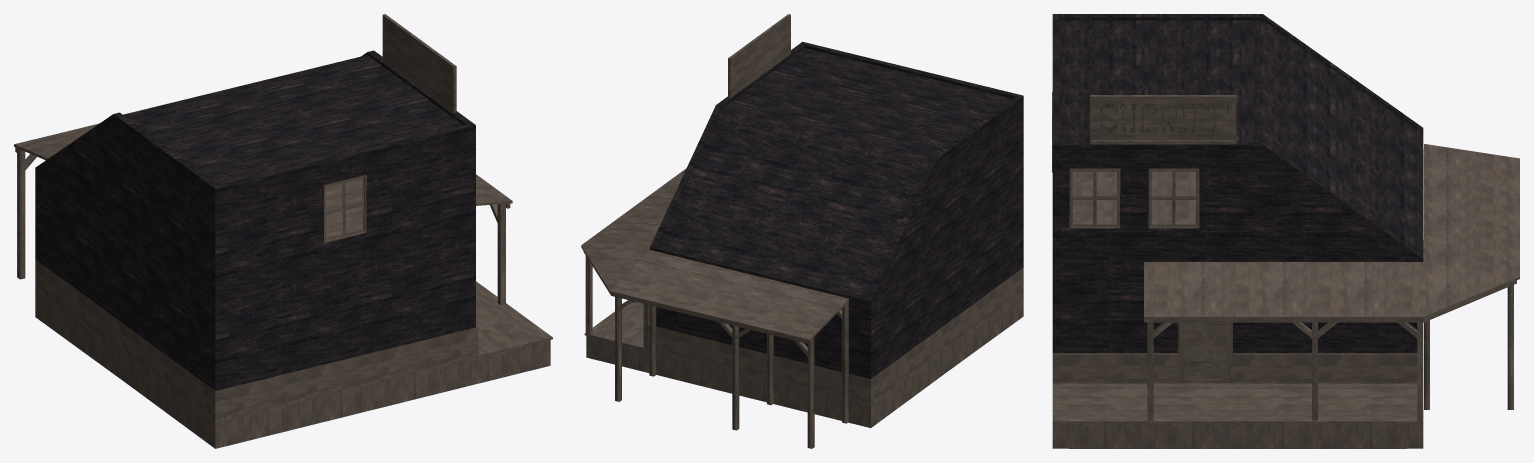
The model's file is oldwest_02.obj.
The picture shows the model from 3 angles, left to right: view 1: azimuth 30°, elevation 25°; view 2: azimuth 150°, elevation 25°; view 3: azimuth 270°, elevation 25°; orthographic projection. The views are drawn at different scales.
Visible parts, largest first — view 1: Cube.160, Cube.154, Cube.162, Cube.157, Cube.118, Cube.163, Cube.156, Cube.158; view 2: Cube.160, Cube.157, Cube.154, Cube.163, Cube.162, Cube.158; view 3: Cube.160, Cube.157, Cube.154, Cube.162, Cube.118, Cube.165, Cube.158, Text.005, Cube.163, Cube.155, Cube.161, Cube.159.
Part boxes in pixels (<box>): Cube.160: <box>35,50,478,419</box>; Cube.154: <box>35,281,552,448</box>; Cube.162: <box>382,14,456,112</box>; Cube.157: <box>14,123,512,208</box>; Cube.118: <box>325,178,362,238</box>; Cube.163: <box>17,147,25,279</box>; Cube.156: <box>323,175,366,243</box>; Cube.158: <box>497,204,505,305</box>; Cube.160: <box>648,41,1023,403</box>; Cube.157: <box>581,168,848,344</box>; Cube.154: <box>584,292,1023,427</box>; Cube.163: <box>615,297,848,448</box>; Cube.162: <box>728,14,790,97</box>; Cube.158: <box>585,255,649,348</box>; Cube.160: <box>1052,14,1423,383</box>; Cube.157: <box>1144,144,1519,322</box>; Cube.154: <box>1052,383,1423,448</box>; Cube.162: <box>1090,95,1236,144</box>; Cube.118: <box>1072,171,1199,226</box>; Cube.165: <box>1180,322,1230,383</box>; Cube.158: <box>1147,322,1423,420</box>; Text.005: <box>1100,103,1228,133</box>; Cube.163: <box>1424,285,1513,409</box>; Cube.155: <box>1069,168,1120,228</box>; Cube.161: <box>1148,168,1199,228</box>; Cube.159: <box>1153,322,1417,338</box>.
Size of the model in its own units: 6.34 by 5.44 by 7.31.
2 materials, 2 textured.
